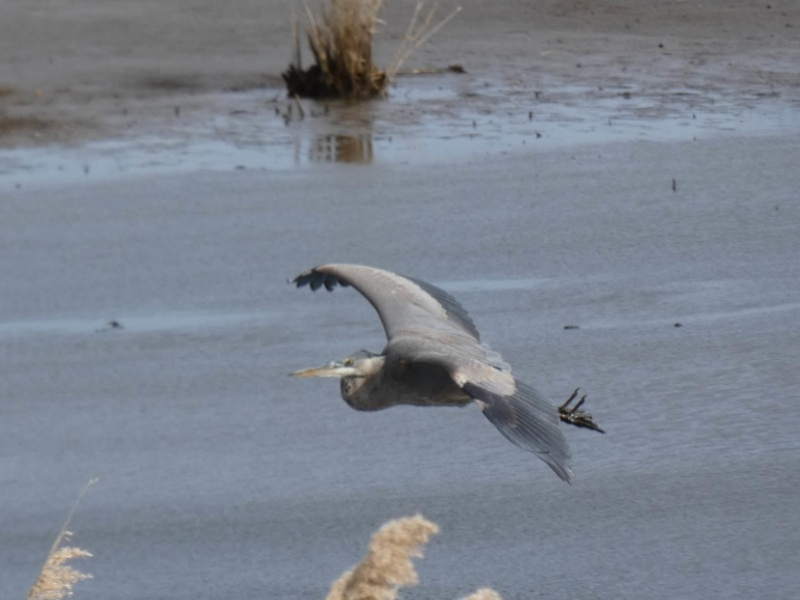heron: (279, 260, 611, 487)
